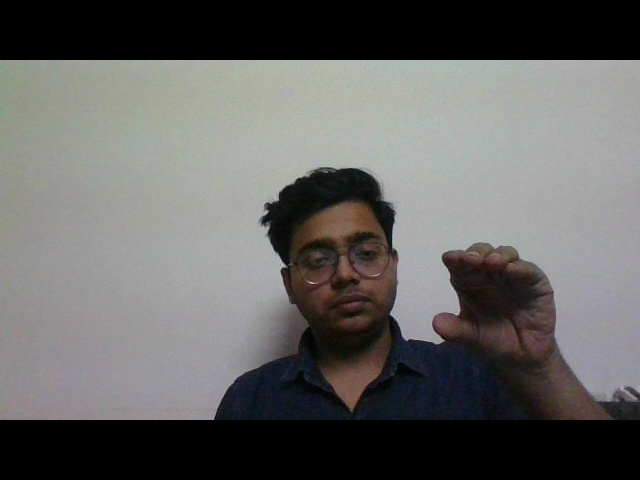no: (421, 239, 593, 378)
